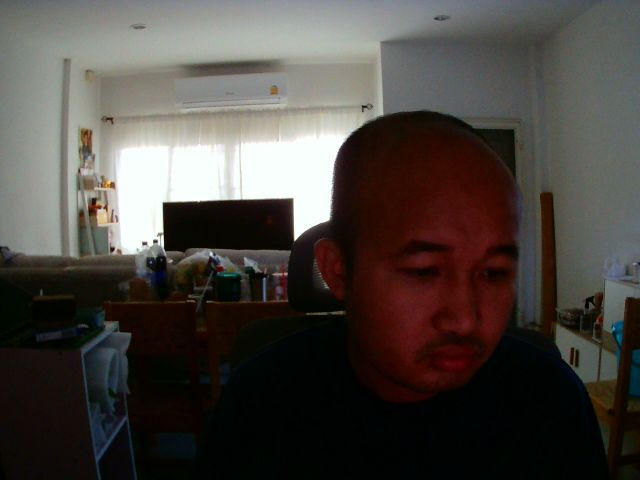face: (326, 108, 516, 392)
